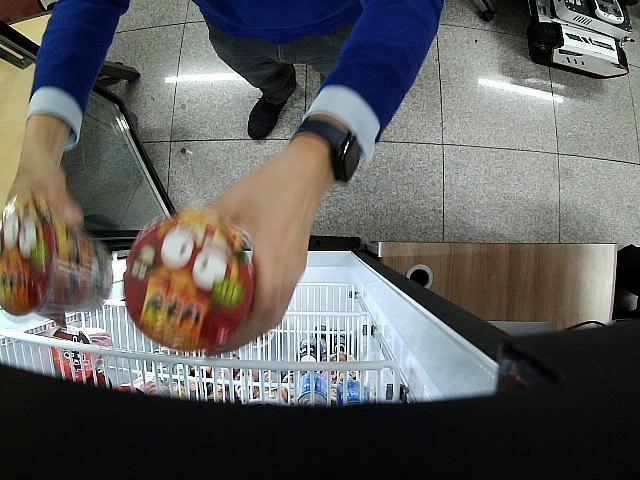06_nuguri_S: (124, 208, 256, 352), (0, 193, 113, 316)
